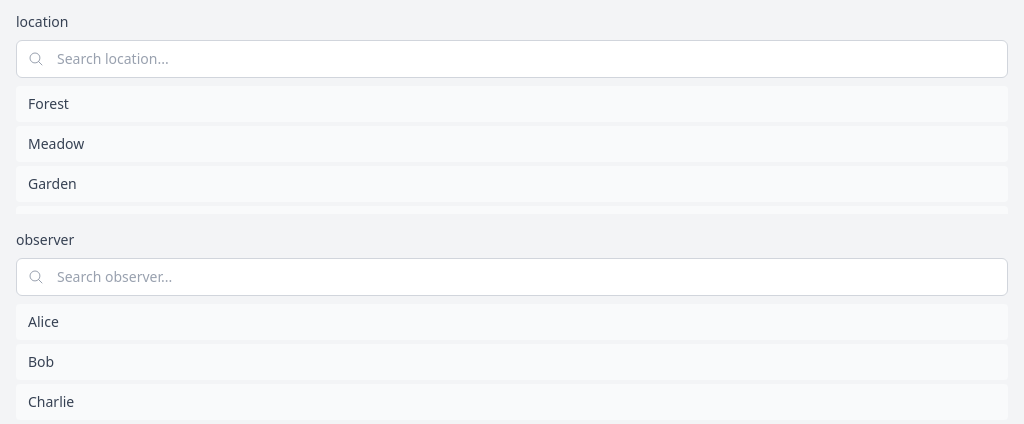
CustomFieldsFilter › Text Field Rendering › shows no results message when search matches nothing
Expected: the button "Forest" is shown, [16,86,1008,122]
In the field with placeholder "Search location...": [512, 59] box [16,40,1008,78], type "xyz123"
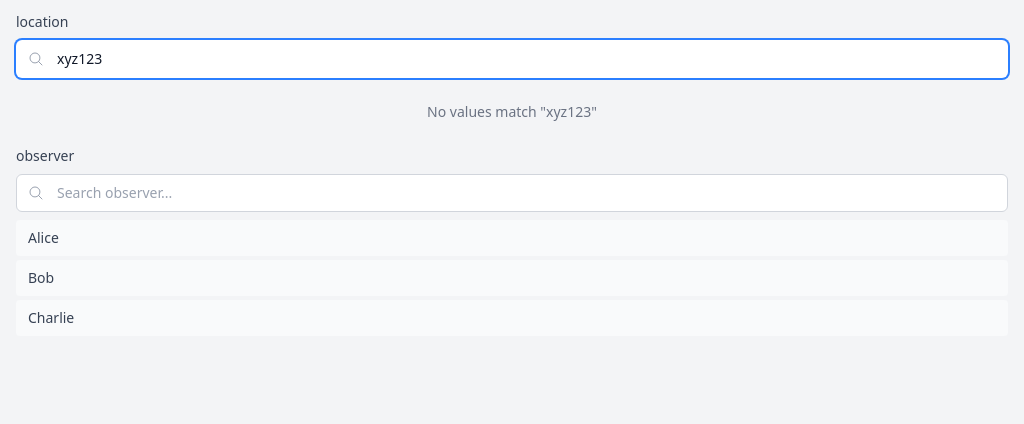
Now the text "No values match \"xyz123\"" is shown, box [427,102,597,121]
